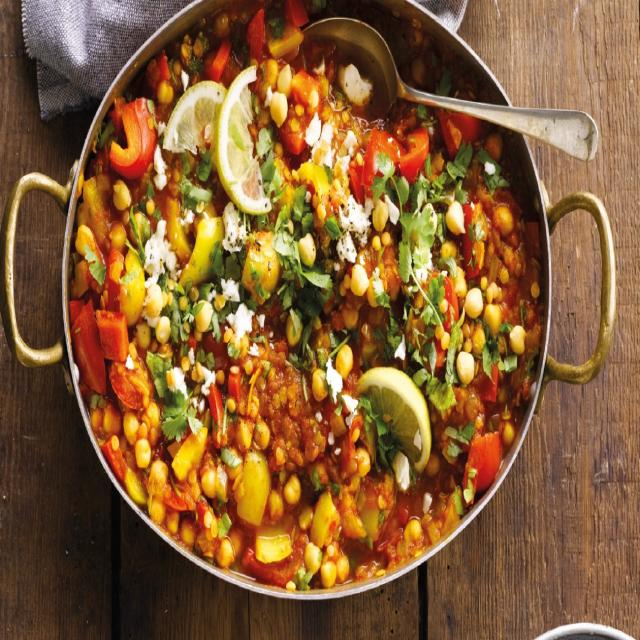garbanzos: (86, 165, 522, 428)
